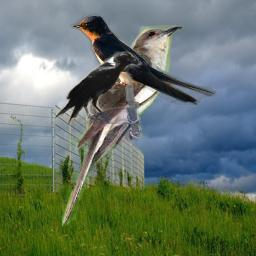Crow: (51, 49, 139, 124)
Cuckoo: (62, 25, 182, 227)
Swallow: (69, 11, 217, 105)
